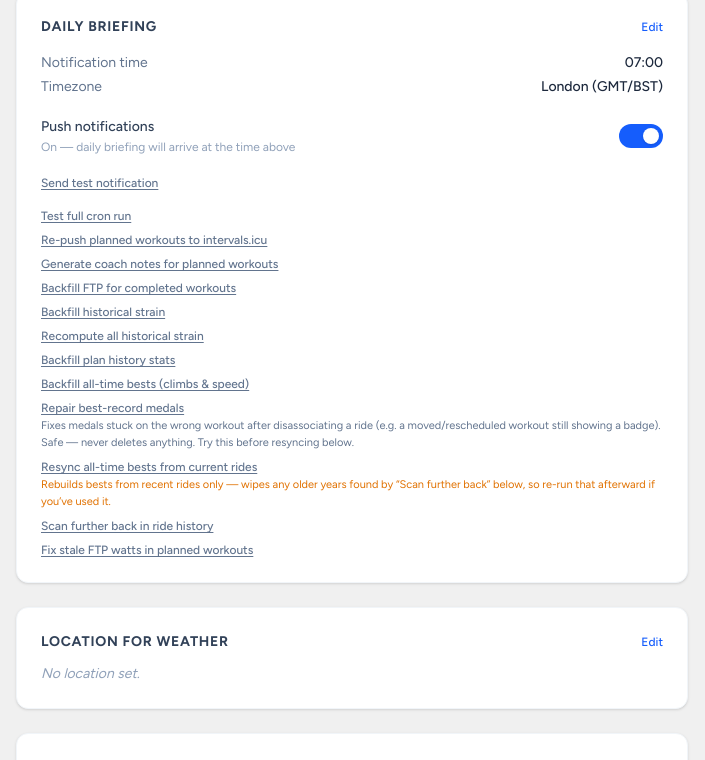
Account page — activity-metrics backfill auto-continues across batches › stops issuing further batches once Stop is clicked
This screenshot has width=705, height=760.
(page scrolled)
Click the button "Backfill all-time bests (climbs & speed)" at (145, 384), box [41,376,249,392]
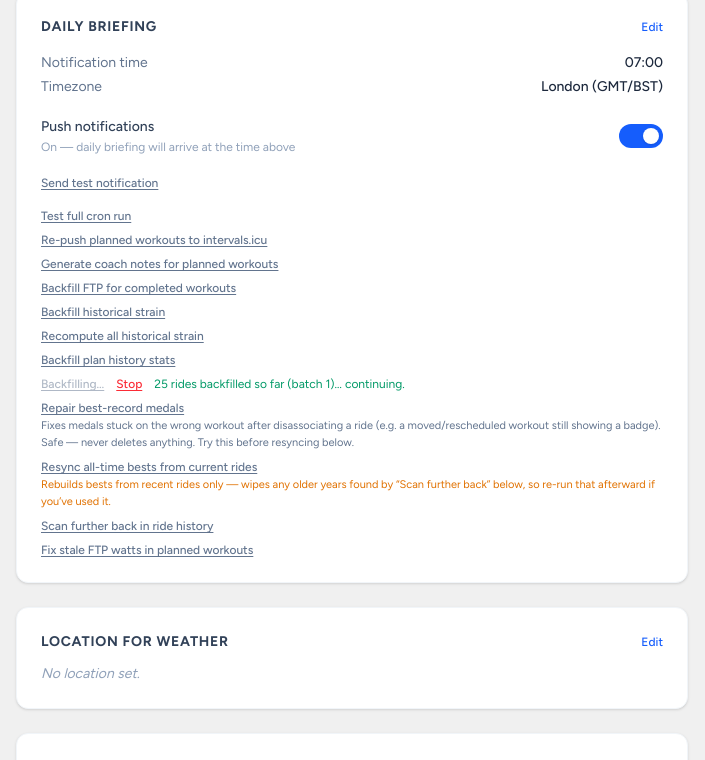
Now the button "Stop" is shown
Click the button "Stop" at (129, 384), box [116,376,142,392]
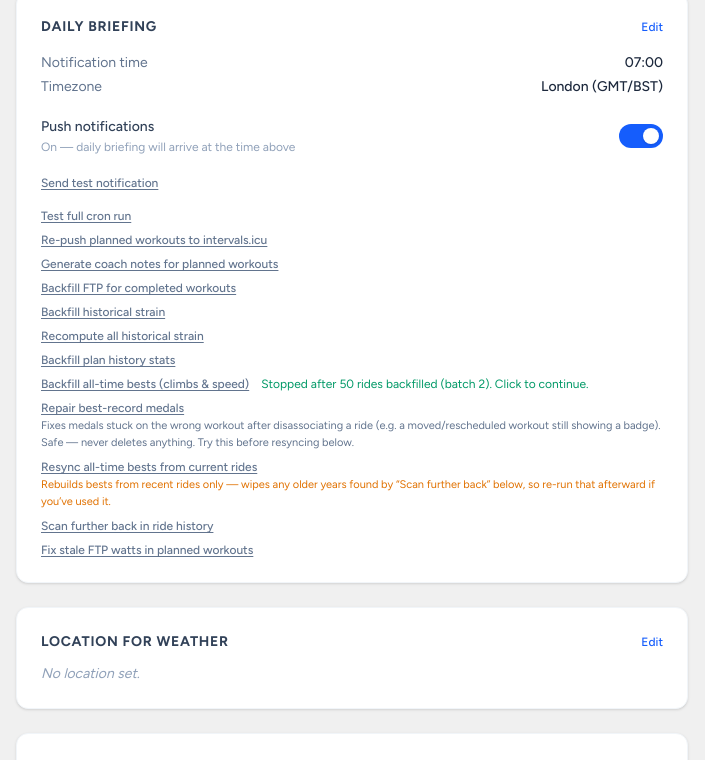
Now the text "Stopped after 50 rides backfilled" is shown, box [261,377,588,391]
